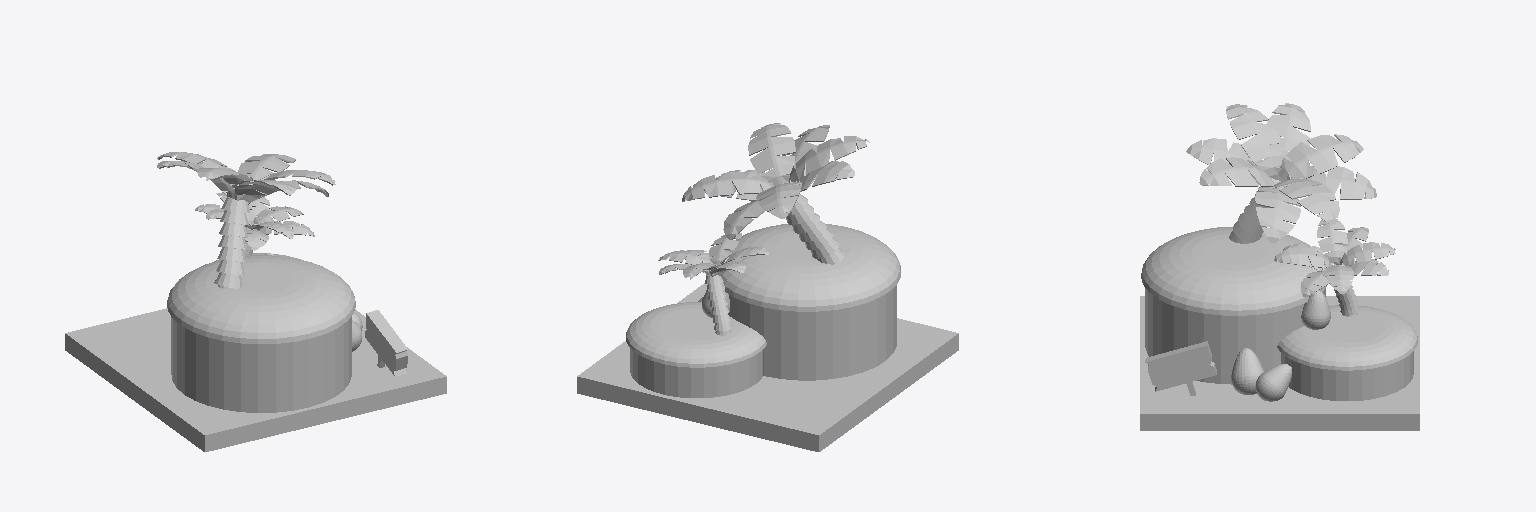
Rendered from entornoYoshi.obj.
3 views of the same model, side by side, from view 1: azimuth 30°, elevation 25°; view 2: azimuth 150°, elevation 25°; view 3: azimuth 270°, elevation 25° (orthographic).
Parts seen in each view (by area): view 1: Cube, Cylinder.006, Cylinder, Cylinder.004, Cylinder.002, Cylinder.005, Cube.001; view 2: Cube, Cylinder.006, Cylinder, Cylinder.004, Cylinder.007, Cylinder.001, Cylinder.005, Cylinder.002, Cylinder.003; view 3: Cylinder.004, Cube, Cylinder.006, Cylinder, Cylinder.007, Cylinder.005, Cylinder.001, Cube.001, Cube.002, Cube.003, Cylinder.002, Cube.004.
Part boxes in pixels (x1,y1,x2,y2): Cube: (65, 308, 446, 451); Cylinder.006: (167, 255, 355, 343); Cylinder: (171, 316, 351, 412); Cylinder.004: (157, 152, 335, 202); Cylinder.002: (214, 191, 266, 288); Cylinder.005: (195, 192, 314, 250); Cube.001: (365, 310, 407, 376); Cube: (577, 283, 958, 451); Cylinder.006: (721, 224, 900, 311); Cylinder: (728, 285, 896, 380); Cylinder.004: (682, 123, 869, 239); Cylinder.007: (626, 302, 766, 367); Cylinder.001: (630, 348, 762, 397); Cylinder.005: (658, 233, 768, 279); Cylinder.002: (786, 194, 844, 264); Cylinder.003: (705, 275, 731, 335); Cylinder.004: (1186, 103, 1376, 242); Cube: (1140, 296, 1419, 430); Cylinder.006: (1141, 227, 1326, 315); Cylinder: (1145, 288, 1325, 384); Cylinder.007: (1277, 305, 1417, 370); Cylinder.005: (1274, 220, 1395, 297); Cylinder.001: (1281, 351, 1413, 400); Cube.001: (1145, 341, 1216, 395); Cube.002: (1231, 348, 1263, 394); Cube.003: (1255, 364, 1291, 401); Cylinder.002: (1229, 177, 1292, 243); Cube.004: (1301, 290, 1330, 329).
Size of the model in its own units: 11.41 by 10.44 by 11.41.